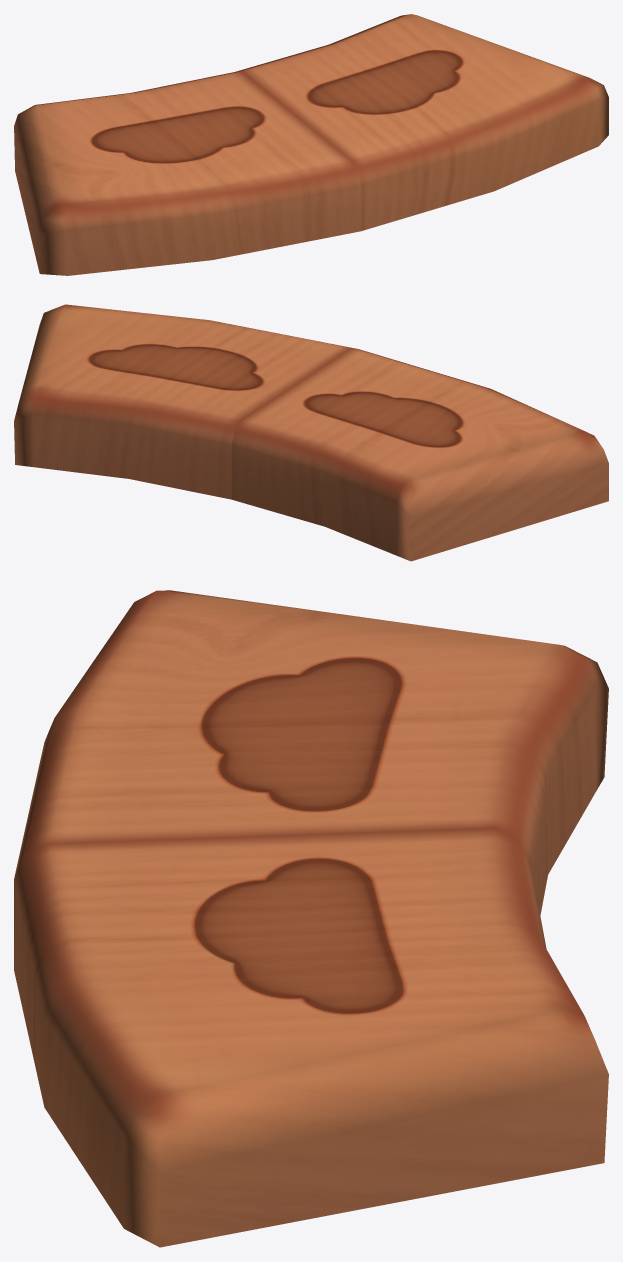
The model's file is Corrupt_Tile_003_New.fbx.
3 renders of one model, top to bottom at view 1: azimuth 30°, elevation 25°; view 2: azimuth 150°, elevation 25°; view 3: azimuth 270°, elevation 25°, orthographic. The views are drawn at different scales.
Parts seen in each view (by area): view 1: Corrupt_Tile_Low; view 2: Corrupt_Tile_Low; view 3: Corrupt_Tile_Low.
Boxes of the visible parts, x1,y1,x2,y2 form: Corrupt_Tile_Low: (14,14,608,275); Corrupt_Tile_Low: (14,304,608,561); Corrupt_Tile_Low: (14,590,608,1247).
Bounding box in the file's own units: 250 × 30.06 × 114.
